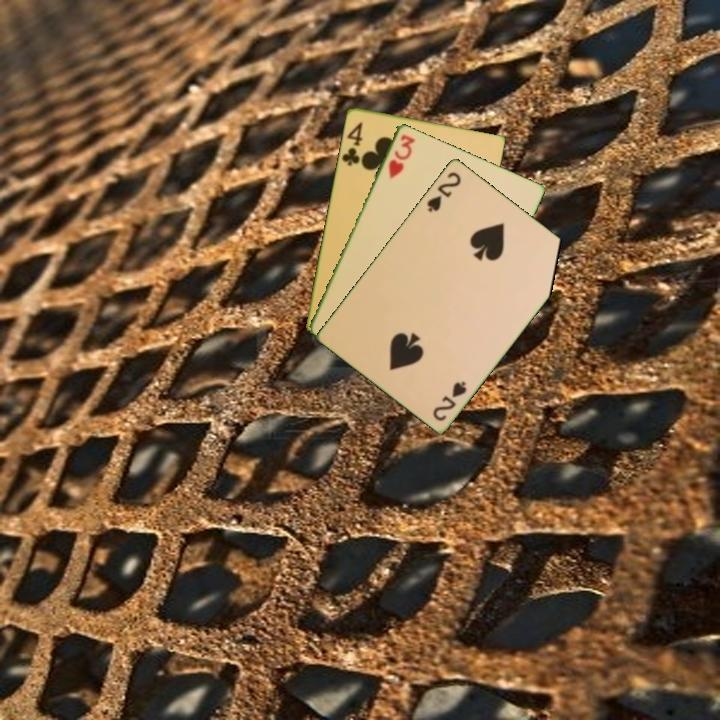2s: (423, 168, 464, 215), (429, 377, 470, 424)
3h: (385, 130, 418, 181)
4c: (338, 118, 365, 168)
